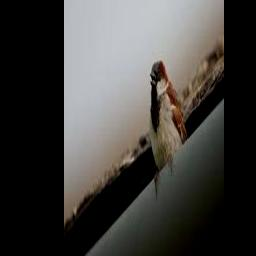Sparrow: (149, 61, 188, 191)
